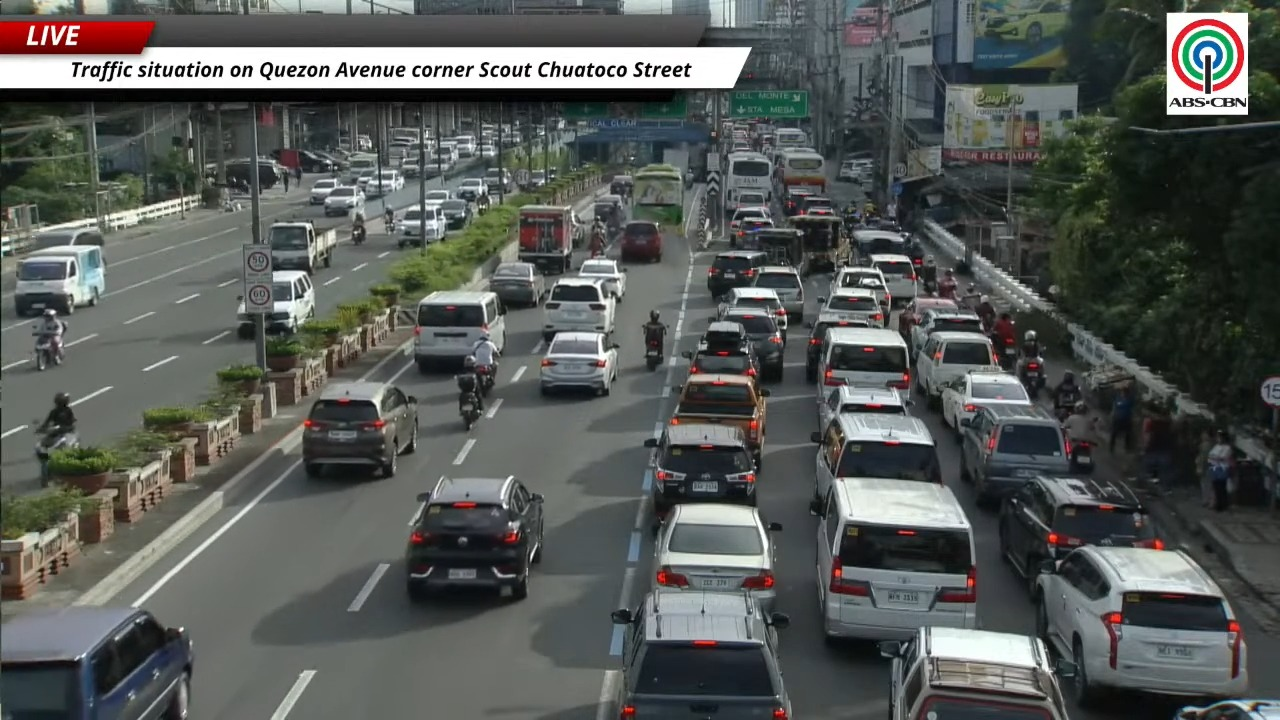bus: (632, 164, 683, 231), (724, 152, 772, 207), (778, 151, 826, 193)
car: (1037, 545, 1248, 708), (810, 475, 979, 643), (609, 589, 791, 719), (0, 606, 193, 719), (998, 476, 1164, 592), (880, 626, 1073, 719), (405, 476, 544, 599), (654, 503, 781, 611), (301, 381, 417, 477), (961, 405, 1070, 506), (810, 415, 941, 499), (644, 422, 756, 519), (915, 331, 1000, 409), (940, 370, 1032, 437), (539, 331, 618, 395), (719, 308, 784, 381), (542, 277, 616, 341), (805, 312, 870, 382), (817, 385, 910, 429), (981, 0, 1068, 46), (908, 304, 983, 356), (717, 286, 788, 340), (898, 296, 958, 356), (264, 270, 315, 332), (827, 266, 891, 312), (754, 265, 804, 323), (707, 250, 767, 297), (818, 287, 886, 327), (682, 341, 758, 376), (489, 261, 546, 306), (869, 253, 917, 304), (1174, 698, 1279, 719), (396, 203, 446, 247), (579, 258, 626, 301), (29, 227, 104, 252), (619, 220, 662, 261), (730, 217, 775, 247), (700, 321, 749, 348), (323, 186, 363, 216), (729, 206, 772, 233), (362, 170, 403, 197), (439, 199, 472, 230), (783, 188, 813, 216), (484, 168, 514, 194), (309, 178, 338, 204), (456, 178, 488, 201), (733, 191, 768, 210), (801, 195, 835, 213), (398, 154, 421, 178), (837, 160, 859, 181), (425, 189, 454, 203), (527, 170, 547, 189), (480, 145, 498, 158)
motorcycle: (35, 428, 78, 487), (1018, 357, 1044, 397), (989, 334, 1016, 371), (34, 334, 61, 370), (458, 391, 481, 430), (1069, 440, 1093, 474), (1054, 391, 1080, 421), (475, 365, 494, 397), (645, 339, 661, 370), (352, 225, 366, 245)
truck: (669, 373, 769, 469), (267, 219, 344, 274), (518, 205, 576, 273), (662, 148, 689, 177)
